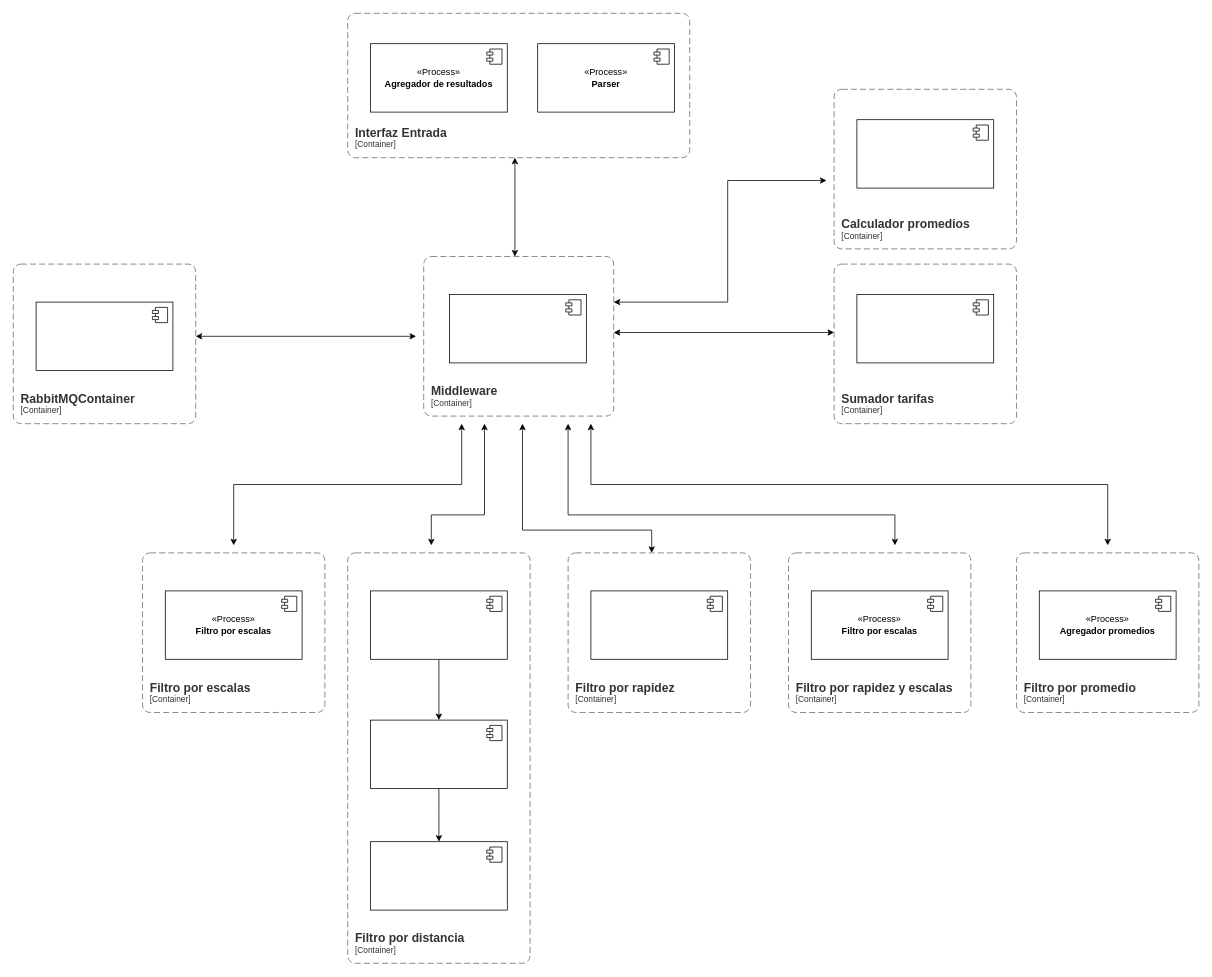
Image size: 1212x977. Some labels were removed from this diagram. Each missing label, with the centre of its shape:
«File» Archivo coordenadas: (x=438, y=875)
«Process» Agregador tarifas: (x=925, y=153)
«Process» Calculador distancia directa: (x=438, y=753)
«Process» FIltro mas rapidos: (x=659, y=624)
«Process» Filtro por distancia: (x=438, y=624)
«Process» QueueManager: (x=517, y=328)
«Process» RabbitMQ: (x=104, y=335)
«Process» Sumador Tarifas: (x=925, y=328)
